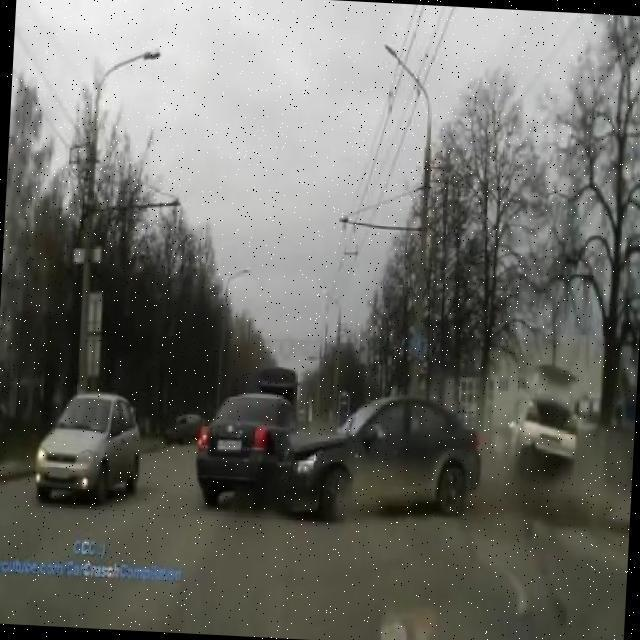accident: (193, 367, 486, 529)
